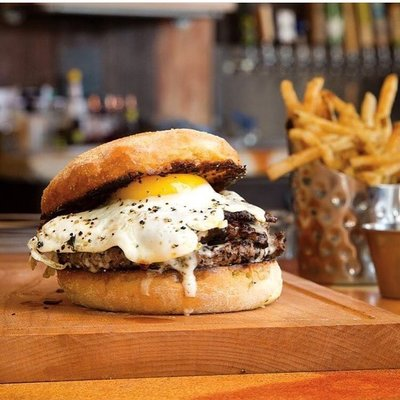soup: (26, 128, 289, 316)
